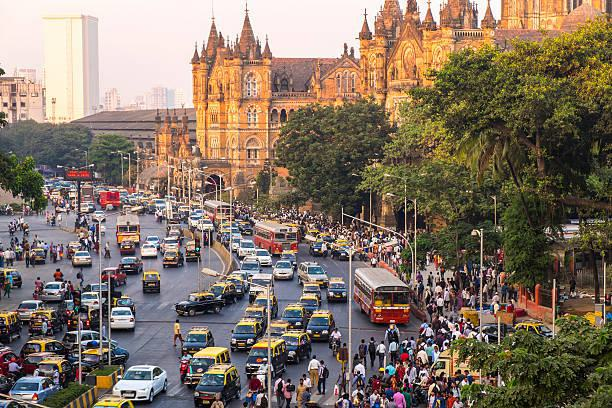car: (125, 367, 175, 403), (204, 358, 244, 403), (176, 363, 218, 402), (105, 370, 154, 403), (153, 343, 194, 375)
